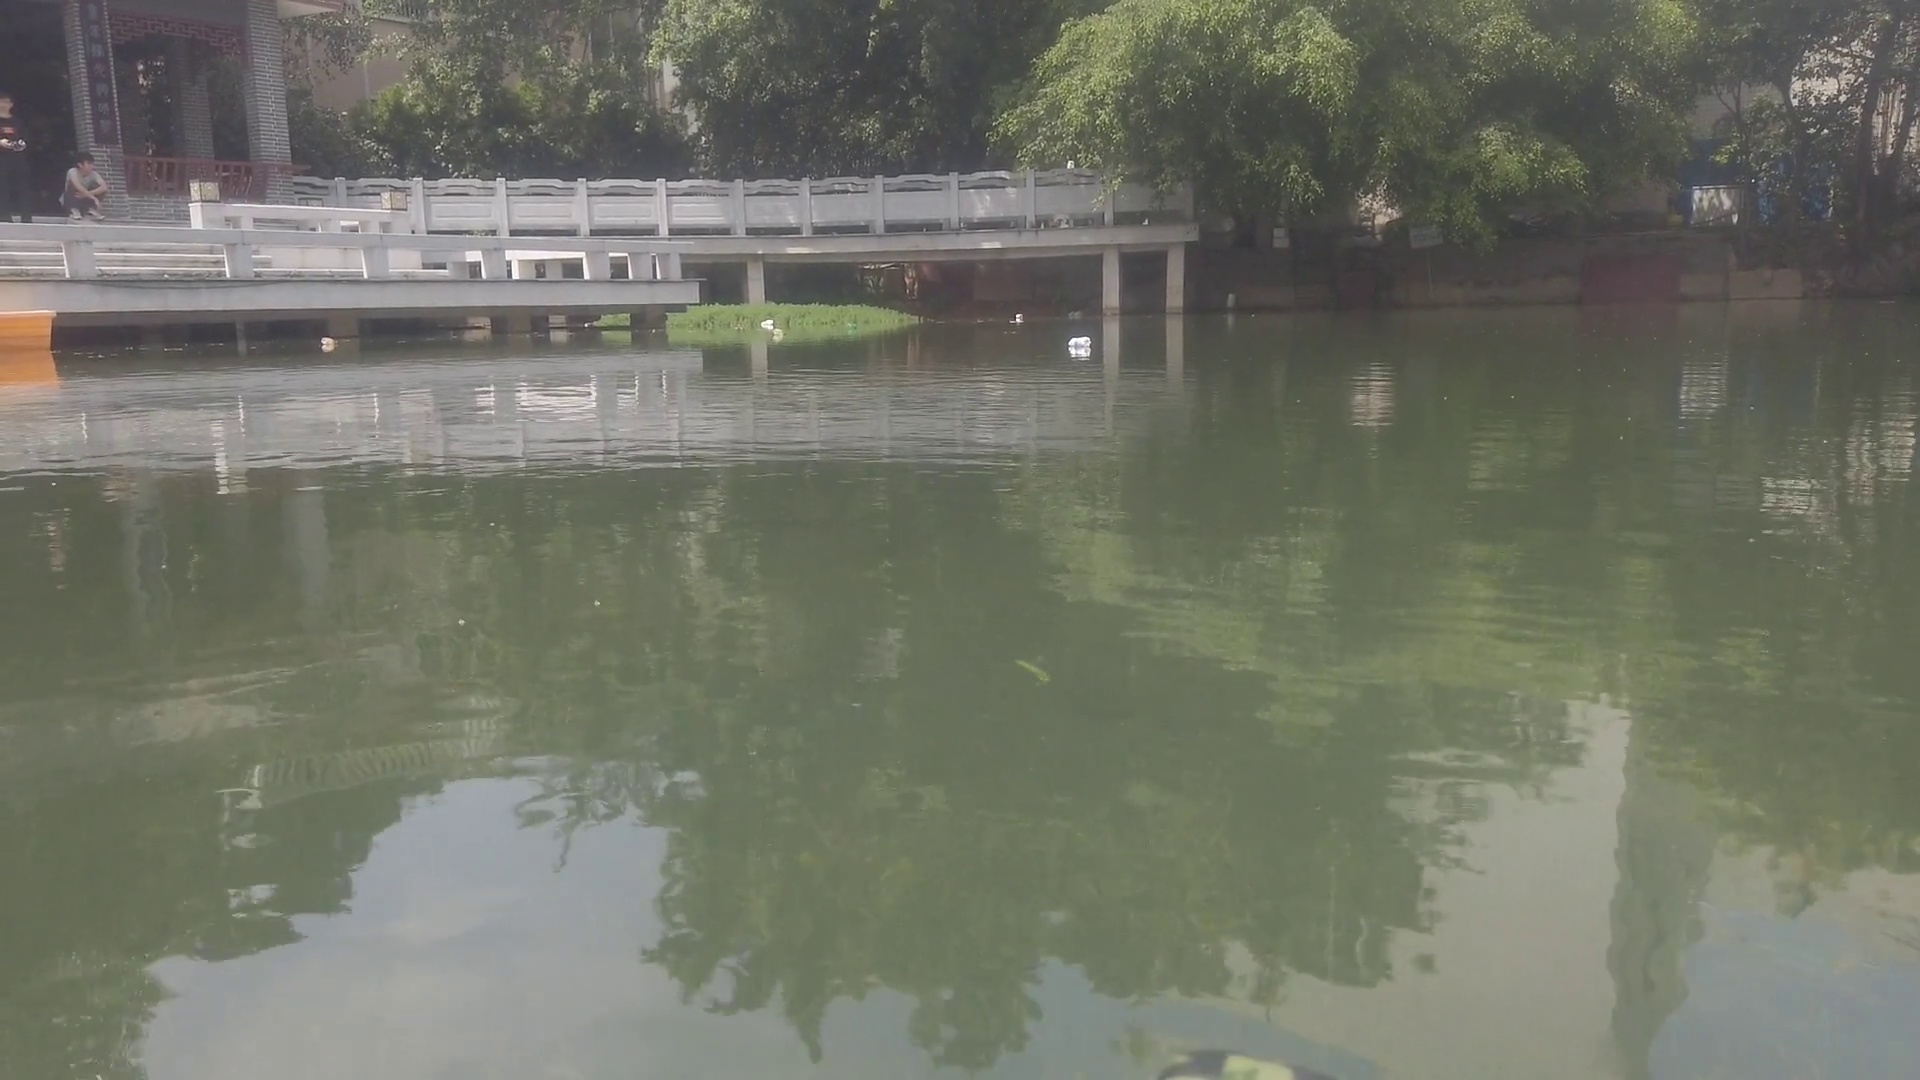bottle: (1064, 335, 1092, 347), (845, 319, 862, 332), (318, 334, 338, 344), (773, 328, 789, 338)
carton: (1014, 310, 1025, 323)
plastic: (760, 315, 774, 324)
